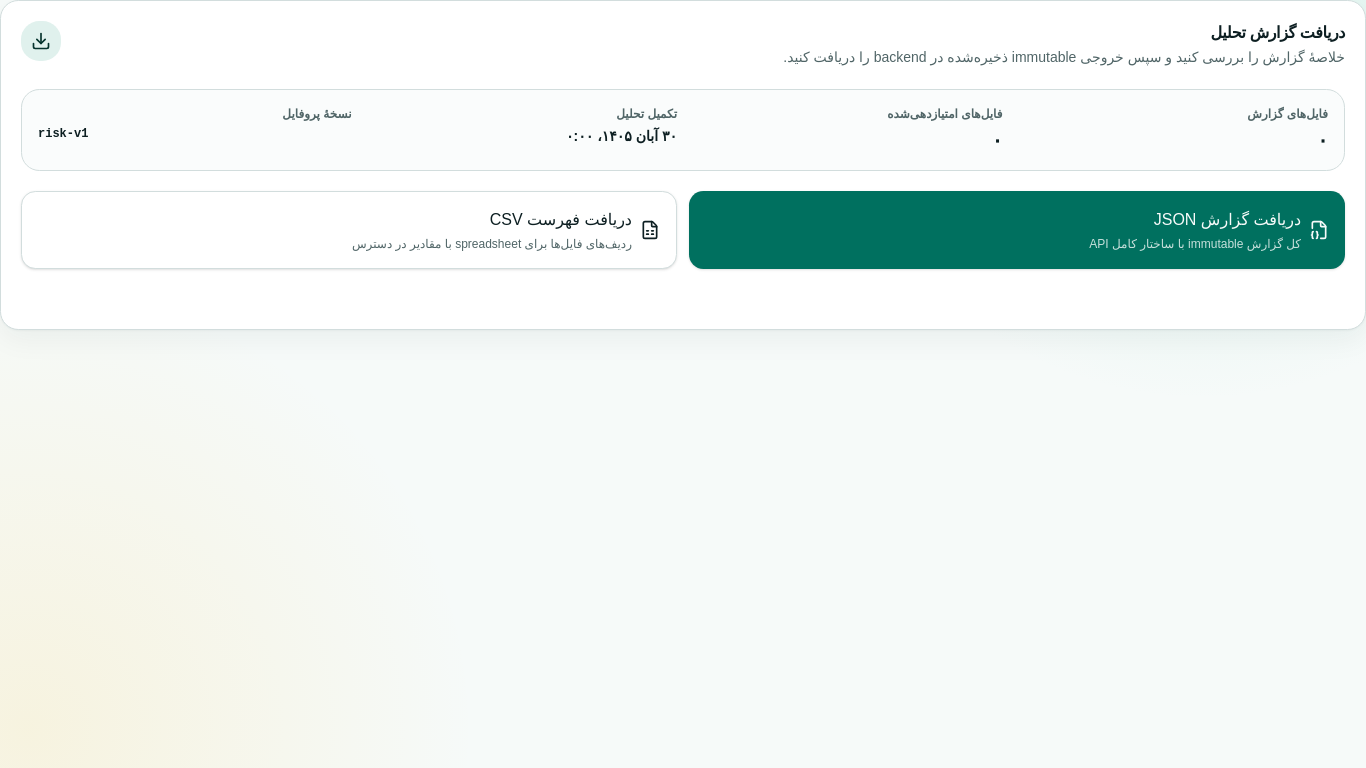
Test: ReportExportCard › starts a JSON report download after the user reviewed the summary
Click the button "دریافت گزارش JSON کل گزارش immutable با ساختار کامل API": click(1175, 220) [689,191,1345,269]
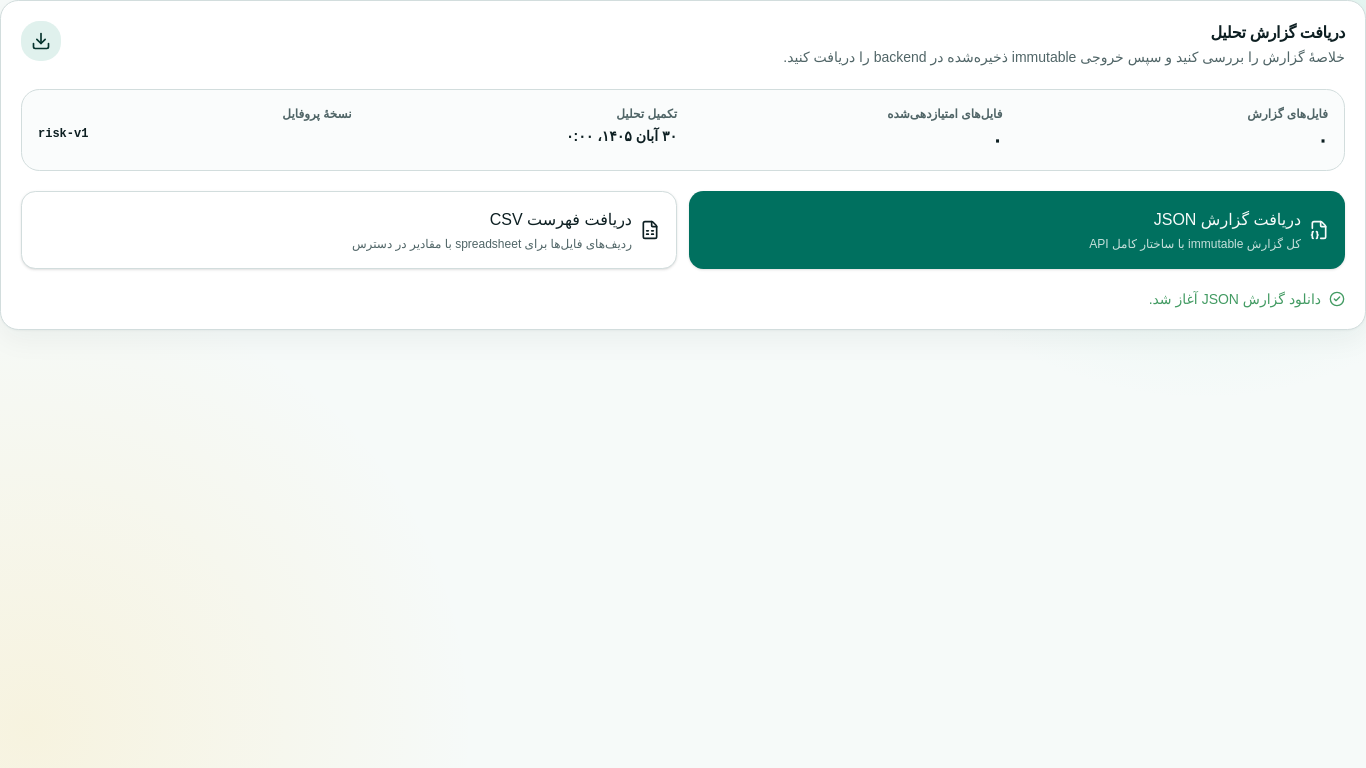
Check: the text "دانلود گزارش JSON آغاز شد." is shown, box [1149,291,1345,307]
